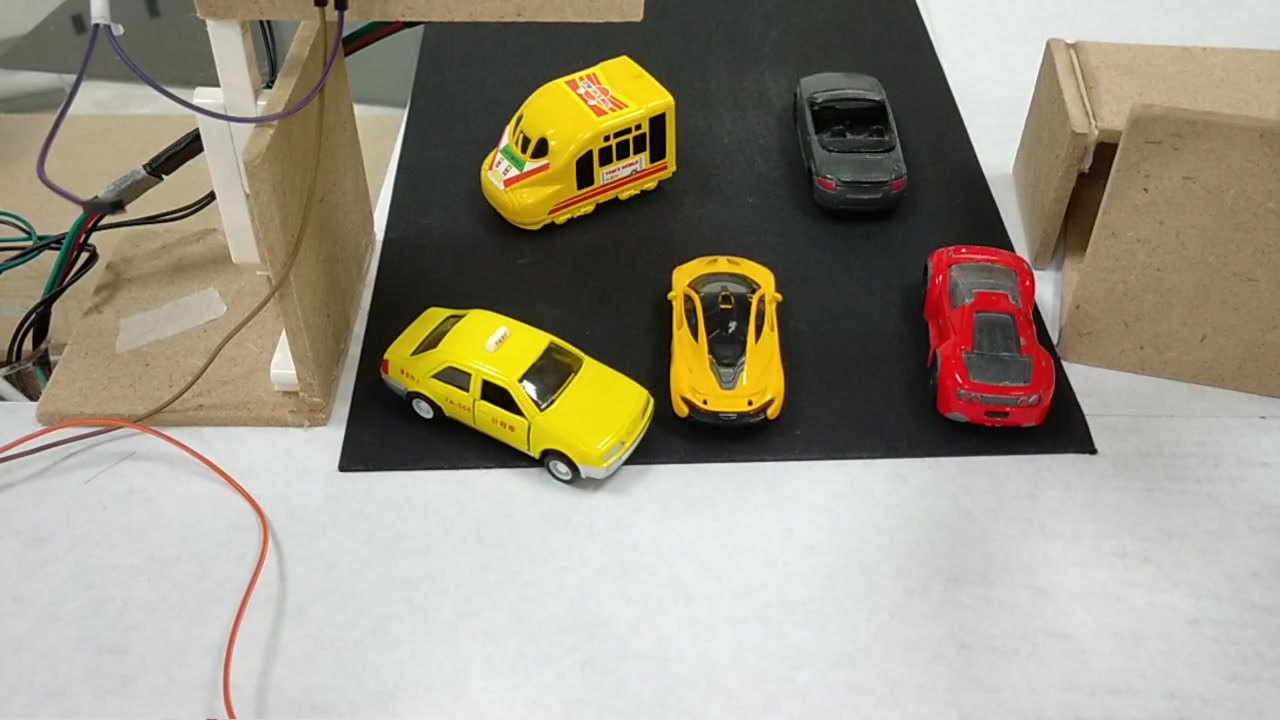car: (371, 308, 659, 490), (925, 239, 1058, 428), (661, 258, 782, 424), (784, 71, 907, 205)
